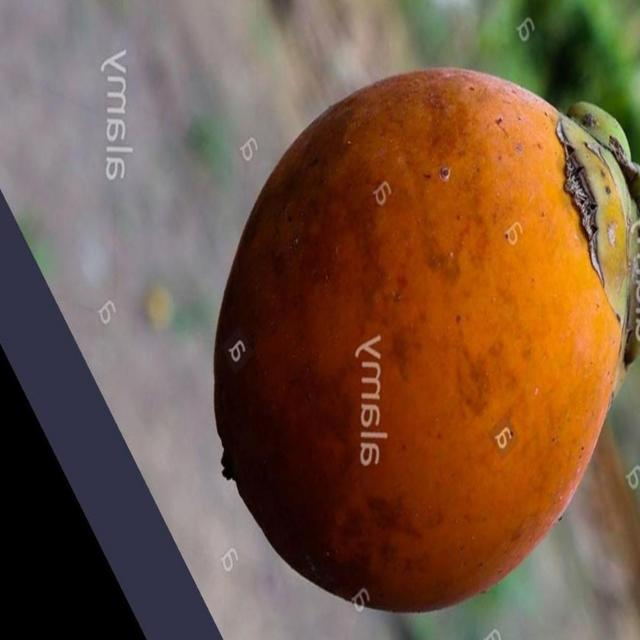good: (212, 68, 640, 617)
